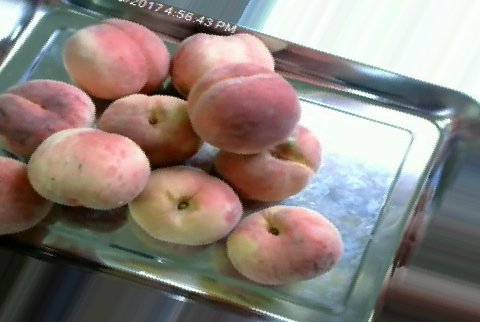Peach: (184, 62, 301, 153), (27, 128, 152, 210), (127, 165, 245, 247), (226, 205, 342, 285), (62, 14, 173, 94), (212, 123, 322, 201), (95, 92, 203, 166), (0, 77, 95, 157), (172, 33, 274, 100)
